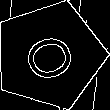O_E: (17, 27, 82, 84)
